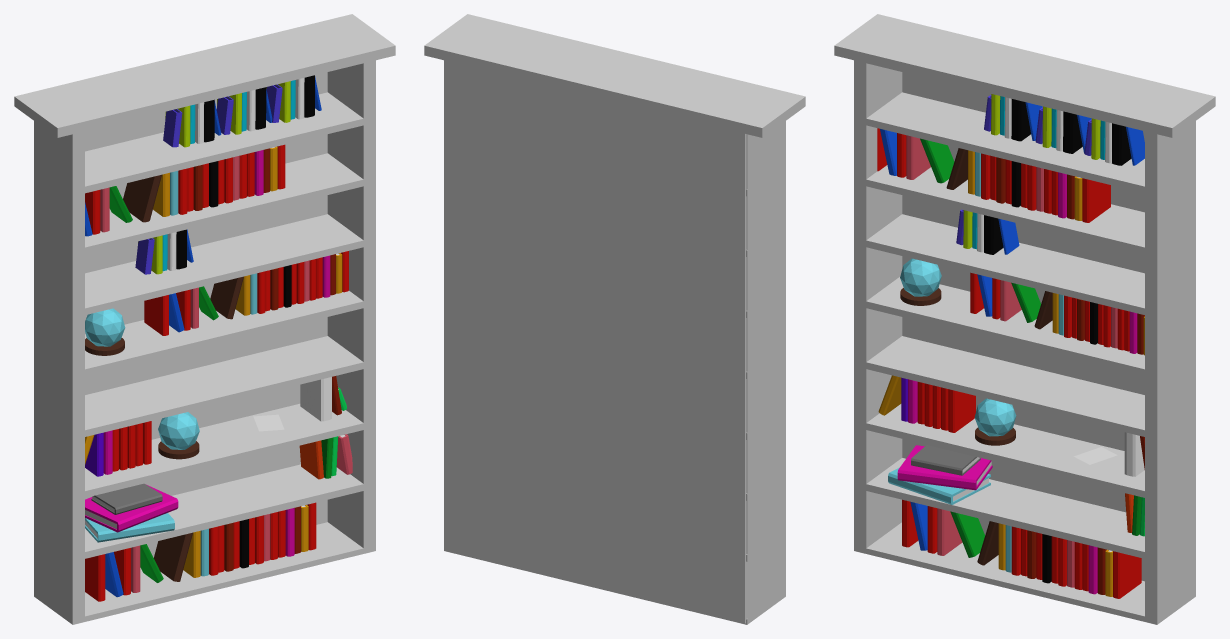
The model's file is Bookshelf.fbx.
3 views of the same model, side by side, from view 1: azimuth 30°, elevation 25°; view 2: azimuth 150°, elevation 25°; view 3: azimuth 330°, elevation 25° (orthographic).
Parts seen in each view (by area): view 1: BookShelf, Books; view 2: BookShelf; view 3: BookShelf, Books.
Part boxes in pixels (x1,y1,x2,y2): BookShelf: (14, 14, 395, 624); Books: (85, 75, 352, 601); BookShelf: (424, 14, 805, 624); BookShelf: (834, 14, 1215, 624); Books: (877, 94, 1144, 598).
Bounding box in the file's own units: 197 × 281 × 43.99.
